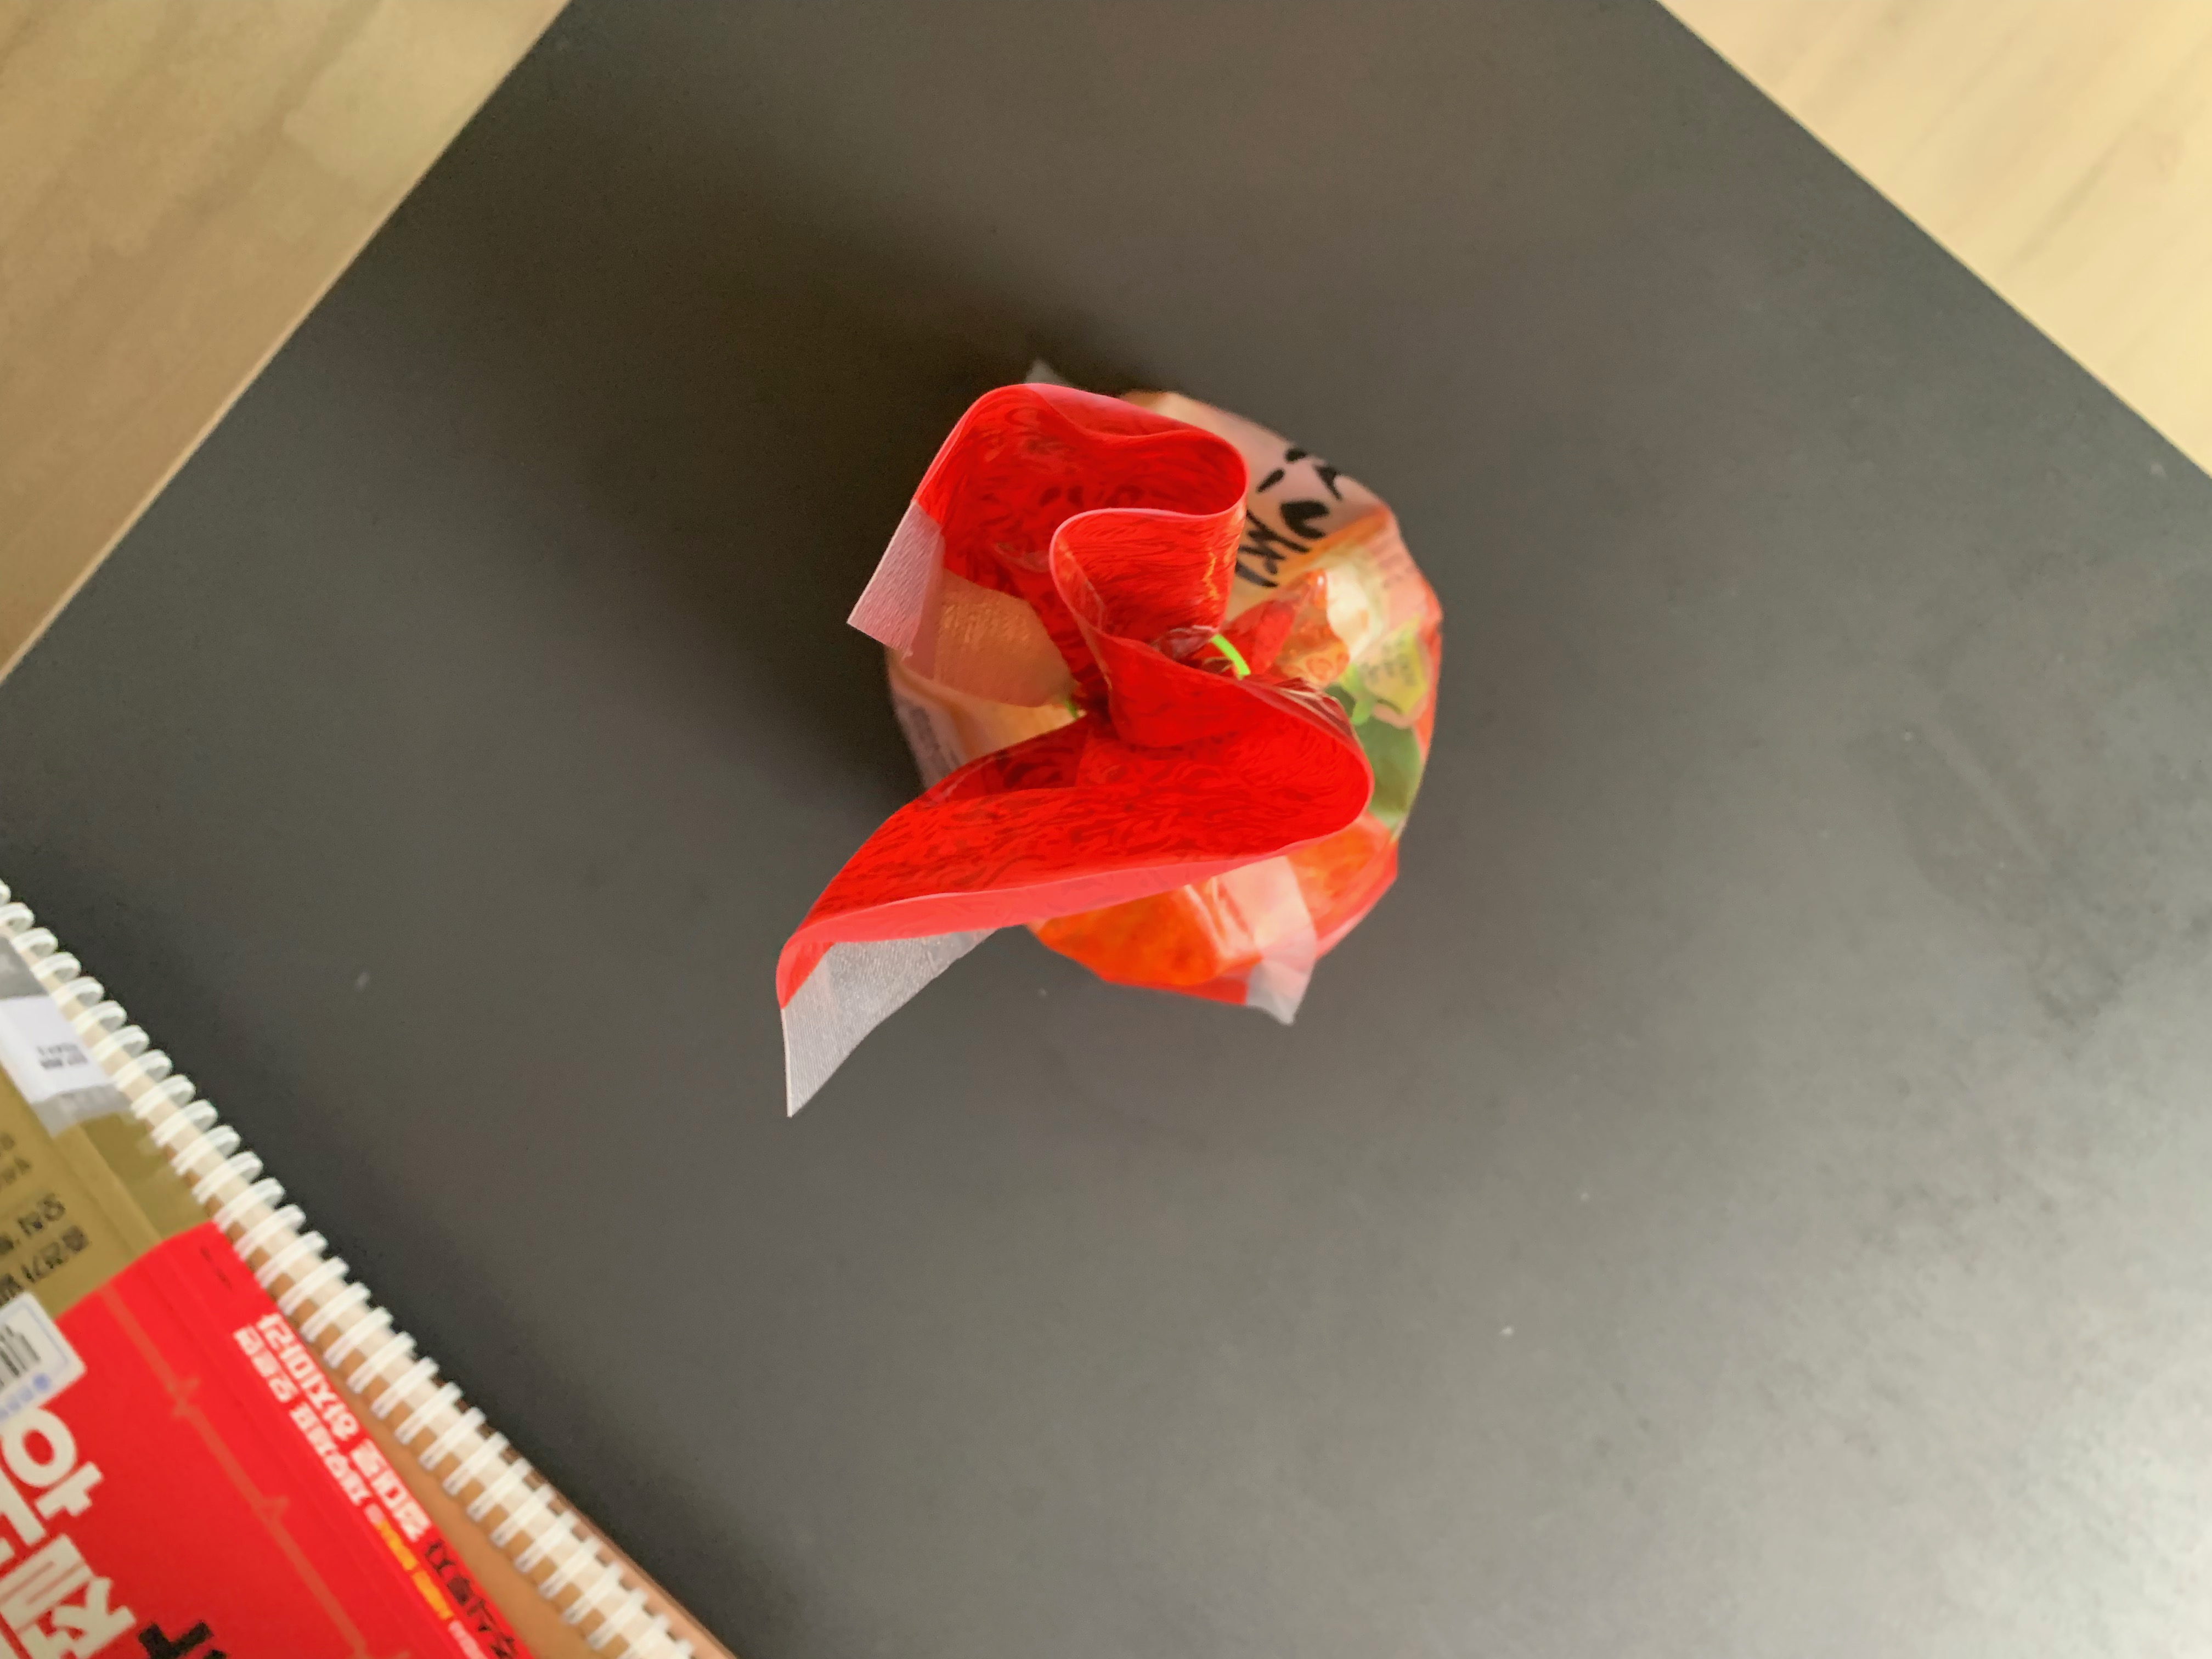kimchi: (838, 378, 1449, 1012)
